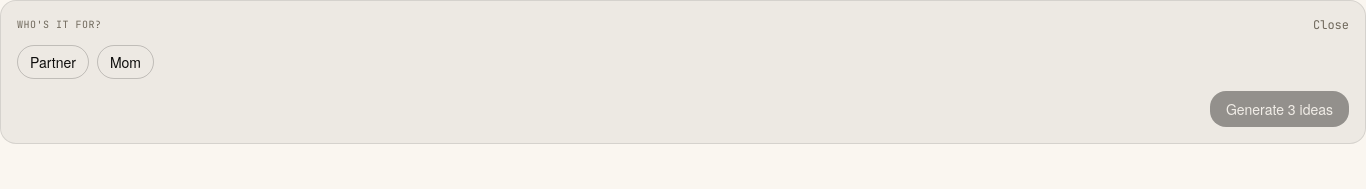
CardMessageAssist › shows generic error on 502 with retry button
Click the button "Partner" at [53, 62], box 17,45 -> 89,79
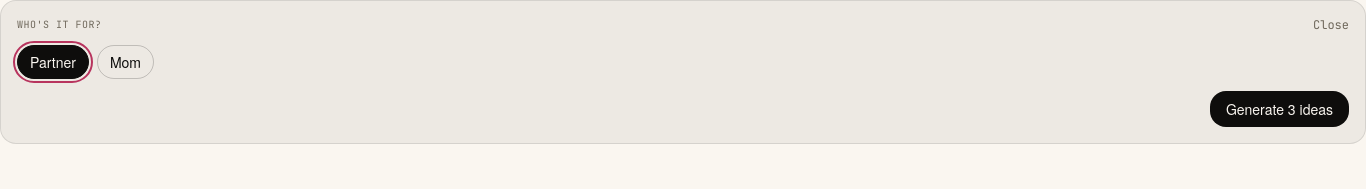
Click the button "Generate 3 ideas" at [1279, 109], box 1210,91 -> 1349,127
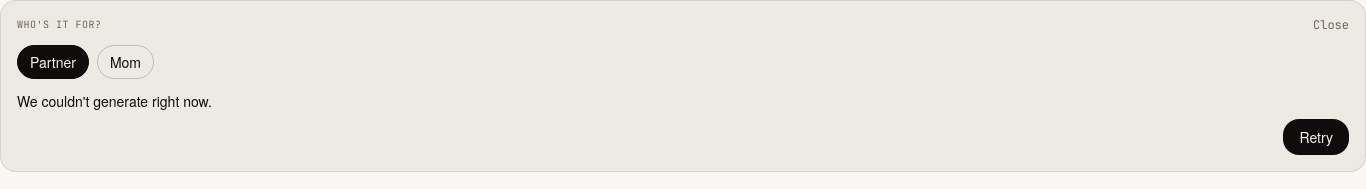
Result: the text "We couldn't generate right now." is shown at 17,91 -> 212,111
Result: the button "Retry" is shown at 1284,119 -> 1349,155
